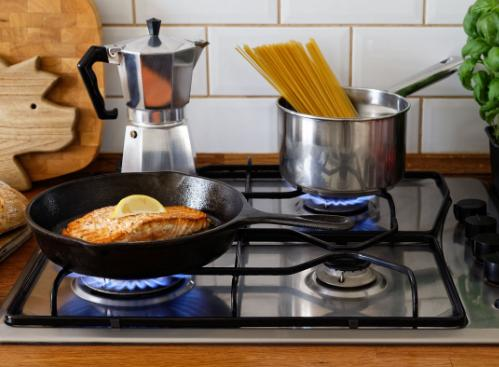controlled_fire: (44, 261, 209, 299), (285, 181, 404, 226)
